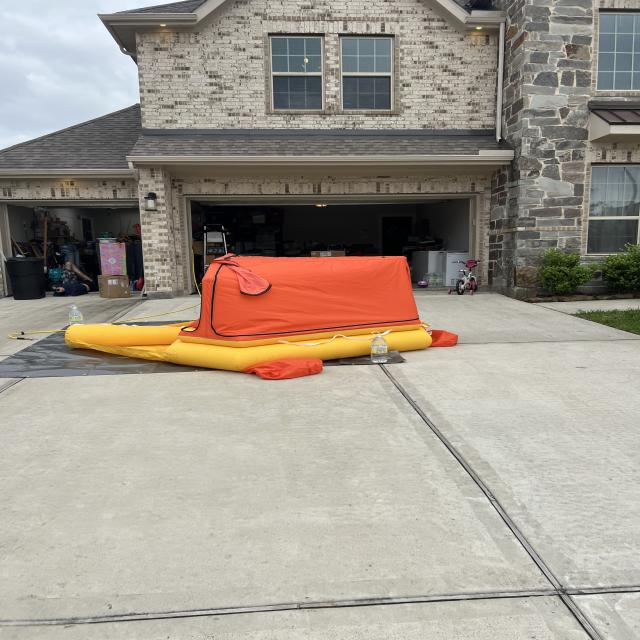Multi-person_life_raft: (64, 253, 459, 380)
